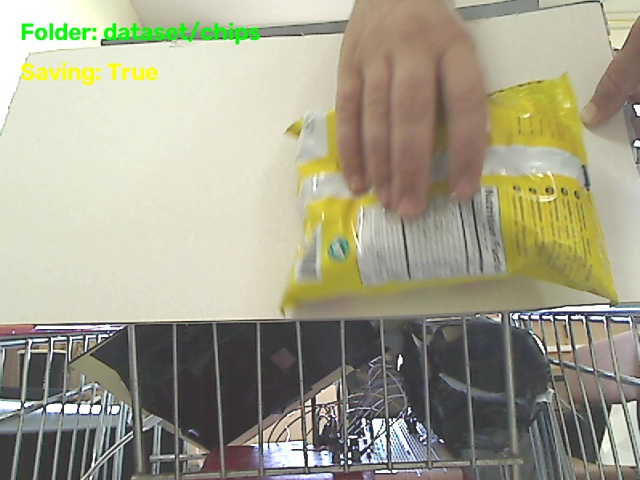chips: (282, 75, 616, 311)
